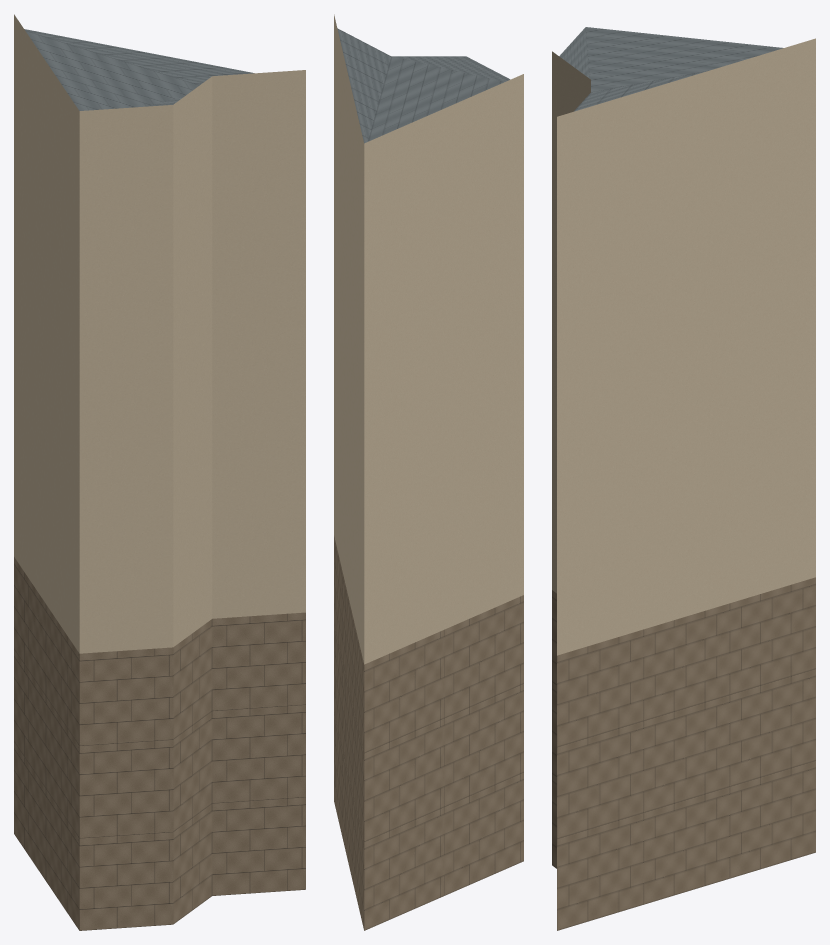
Rendered from bld_c10_41_505.gltf.
3 renders of one model, left to right at view 1: azimuth 30°, elevation 25°; view 2: azimuth 150°, elevation 25°; view 3: azimuth 270°, elevation 25°, orthographic. The views are drawn at different scales.
Parts seen in each view (by area): view 1: bld_c10_41_505; view 2: bld_c10_41_505; view 3: bld_c10_41_505.
Part boxes in pixels (x1=…): bld_c10_41_505: x1=14, y1=14, x2=305, y2=930; bld_c10_41_505: x1=334, y1=14, x2=523, y2=930; bld_c10_41_505: x1=552, y1=27, x2=815, y2=930.
Bounding box in the file's own units: 4.08 × 15.08 × 4.43.
4 materials, 4 textured.
